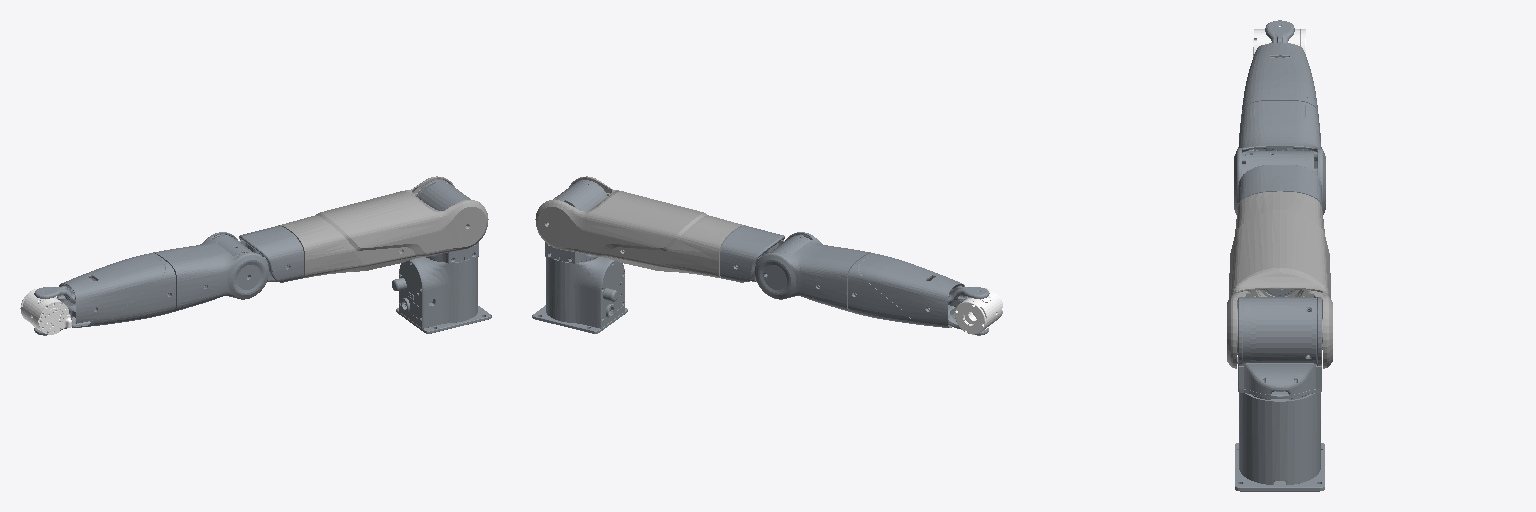
URDF robot description (nero_description):
<?xml version="1.0" encoding="utf-8"?>
<!-- This URDF was automatically created by SolidWorks to URDF Exporter! Originally created by [author] ([email redacted]) 
     Commit Version: 1.6.0-4-g7f85cfe  Build Version: 1.6.7995.38578
     For more information, please see http://wiki.ros.org/sw_urdf_exporter -->
<robot
  name="nero_description">
  <link
    name="base_link">
    <inertial>
      <origin
        xyz="-0.00963614954335565 0.00016786624100977 0.044860101664403"
        rpy="0 0 0" />
      <mass
        value="0.487153985946125" />
      <inertia
        ixx="0.000448116331022417"
        ixy="5.78111047127811E-07"
        ixz="1.54743135248644E-05"
        iyy="0.000492511294798627"
        iyz="-4.11935494337721E-07"
        izz="0.000552986424582884" />
    </inertial>
    <visual>
      <origin
        xyz="0 0 0"
        rpy="0 0 0" />
      <geometry>
        <mesh
          filename="package://nero_description/meshes/base_link.STL" />
      </geometry>
      <material
        name="">
        <color
          rgba="0.592156862745098 0.619607843137255 0.650980392156863 1" />
      </material>
    </visual>
    <collision>
      <origin
        xyz="0 0 0"
        rpy="0 0 0" />
      <geometry>
        <mesh
          filename="package://nero_description/meshes/base_link.STL" />
      </geometry>
    </collision>
  </link>
  <link
    name="Link1">
    <inertial>
      <origin
        xyz="0.000715896252246681 0.000898556742748309 -0.0252517626006055"
        rpy="0 0 0" />
      <mass
        value="0.24545463218233" />
      <inertia
        ixx="0.00011319361616663"
        ixy="6.05951634198749E-07"
        ixz="7.40786266784068E-07"
        iyy="0.000125764803621739"
        iyz="3.74212053006065E-07"
        izz="0.000127643109947032" />
    </inertial>
    <visual>
      <origin
        xyz="0 0 0"
        rpy="0 0 0" />
      <geometry>
        <mesh
          filename="package://nero_description/meshes/Link1.STL" />
      </geometry>
      <material
        name="">
        <color
          rgba="0.592156862745098 0.619607843137255 0.650980392156863 1" />
      </material>
    </visual>
    <collision>
      <origin
        xyz="0 0 0"
        rpy="0 0 0" />
      <geometry>
        <mesh
          filename="package://nero_description/meshes/Link1.STL" />
      </geometry>
    </collision>
  </link>
  <joint
    name="joint1"
    type="revolute">
    <origin
      xyz="0 0 0.138"
      rpy="0 0 0" />
    <parent
      link="base_link" />
    <child
      link="Link1" />
    <axis
      xyz="0 0 1" />
    <limit
      lower="-2.7402"
      upper="2.7402"
      effort="100"
      velocity="10" />
  </joint>
  <link
    name="Link2">
    <inertial>
      <origin
        xyz="0.00150006271332911 -0.0864806891090517 0.00233256198231633"
        rpy="0 0 0" />
      <mass
        value="0.340250343180855" />
      <inertia
        ixx="0.00114692547593191"
        ixy="7.82238855198332E-06"
        ixz="3.0883652252364E-07"
        iyy="0.000213355266074738"
        iyz="-8.94550878113609E-07"
        izz="0.00125153113572145" />
    </inertial>
    <visual>
      <origin
        xyz="0 0 0"
        rpy="0 0 0" />
      <geometry>
        <mesh
          filename="package://nero_description/meshes/Link2.STL" />
      </geometry>
      <material
        name="">
        <color
          rgba="0.698039215686274 0.698039215686274 0.698039215686274 0.875" />
      </material>
    </visual>
    <collision>
      <origin
        xyz="0 0 0"
        rpy="0 0 0" />
      <geometry>
        <mesh
          filename="package://nero_description/meshes/Link2.STL" />
      </geometry>
    </collision>
  </link>
  <joint
    name="joint2"
    type="revolute">
    <origin
      xyz="0 0 0"
      rpy="1.5708 1.5708 0" />
    <parent
      link="Link1" />
    <child
      link="Link2" />
    <axis
      xyz="0 0 -1" />
    <limit
      lower="-0.2618"
      upper="3.3161"
      effort="100"
      velocity="10" />
  </joint>
  <link
    name="Link3">
    <inertial>
      <origin
        xyz="0.000329369340537011 0.000367393742880216 -0.0912010032043437"
        rpy="0 0 0" />
      <mass
        value="0.359899395208716" />
      <inertia
        ixx="0.000326426459526899"
        ixy="-7.9589690370858E-08"
        ixz="-3.20254640955194E-06"
        iyy="0.000359922429421077"
        iyz="-1.4226909768486E-06"
        izz="9.50921751679351E-05" />
    </inertial>
    <visual>
      <origin
        xyz="0 0 0"
        rpy="0 0 0" />
      <geometry>
        <mesh
          filename="package://nero_description/meshes/Link3.STL" />
      </geometry>
      <material
        name="">
        <color
          rgba="0.592156862745098 0.619607843137255 0.650980392156863 1" />
      </material>
    </visual>
    <collision>
      <origin
        xyz="0 0 0"
        rpy="0 0 0" />
      <geometry>
        <mesh
          filename="package://nero_description/meshes/Link3.STL" />
      </geometry>
    </collision>
  </link>
  <joint
    name="joint3"
    type="revolute">
    <origin
      xyz="0 -0.31 0"
      rpy="-1.5708 0 3.1416" />
    <parent
      link="Link2" />
    <child
      link="Link3" />
    <axis
      xyz="0 0 1" />
    <limit
      lower="-2.7925"
      upper="2.7925"
      effort="100"
      velocity="10" />
  </joint>
  <link
    name="Link4">
    <inertial>
      <origin
        xyz="-0.00090948139479044 -0.0503071433133058 0.00916295451944902"
        rpy="0 0 0" />
      <mass
        value="0.164135315169796" />
      <inertia
        ixx="0.000174183260832447"
        ixy="3.85077059441721E-06"
        ixz="-1.54723760900631E-07"
        iyy="6.55376510796343E-05"
        iyz="-2.08112584342887E-06"
        izz="0.000198941180189116" />
    </inertial>
    <visual>
      <origin
        xyz="0 0 0"
        rpy="0 0 0" />
      <geometry>
        <mesh
          filename="package://nero_description/meshes/Link4.STL" />
      </geometry>
      <material
        name="">
        <color
          rgba="0.592156862745098 0.619607843137255 0.650980392156863 1" />
      </material>
    </visual>
    <collision>
      <origin
        xyz="0 0 0"
        rpy="0 0 0" />
      <geometry>
        <mesh
          filename="package://nero_description/meshes/Link4.STL" />
      </geometry>
    </collision>
  </link>
  <joint
    name="joint4"
    type="revolute">
    <origin
      xyz="0 0 0"
      rpy="-1.5708 0 3.1416" />
    <parent
      link="Link3" />
    <child
      link="Link4" />
    <axis
      xyz="0 0 -1" />
    <limit
      lower="-1.0472"
      upper="2.1817"
      effort="100"
      velocity="10" />
  </joint>
  <link
    name="Link5">
    <inertial>
      <origin
        xyz="0.000247508903624559 -0.000503952827460075 -0.103181107893683"
        rpy="0 0 0" />
      <mass
        value="0.26290365411796" />
      <inertia
        ixx="0.000286471020887866"
        ixy="2.42735542088078E-07"
        ixz="-7.39872687538375E-07"
        iyy="0.000256499213556085"
        iyz="-2.34620347411223E-06"
        izz="8.48655617655643E-05" />
    </inertial>
    <visual>
      <origin
        xyz="0 0 0"
        rpy="0 0 0" />
      <geometry>
        <mesh
          filename="package://nero_description/meshes/Link5.STL" />
      </geometry>
      <material
        name="">
        <color
          rgba="0.592156862745098 0.619607843137255 0.650980392156863 1" />
      </material>
    </visual>
    <collision>
      <origin
        xyz="0 0 0"
        rpy="0 0 0" />
      <geometry>
        <mesh
          filename="package://nero_description/meshes/Link5.STL" />
      </geometry>
    </collision>
  </link>
  <joint
    name="joint5"
    type="revolute">
    <origin
      xyz="0 -0.27001 0"
      rpy="1.5708 -1.5708 0" />
    <parent
      link="Link4" />
    <child
      link="Link5" />
    <axis
      xyz="0 0 1" />
    <limit
      lower="-2.7925"
      upper="2.7925"
      effort="100"
      velocity="10" />
  </joint>
  <link
    name="Link6">
    <inertial>
      <origin
        xyz="7.76985979518141E-05 0.00155428293865652 -0.000196698394733047"
        rpy="0 0 0" />
      <mass
        value="0.0346374690978017" />
      <inertia
        ixx="5.41014573027983E-06"
        ixy="-2.53158407563903E-08"
        ixz="-5.77076135193377E-08"
        iyy="9.75643100389665E-06"
        iyz="3.4010295821093E-08"
        izz="5.56054302578999E-06" />
    </inertial>
    <visual>
      <origin
        xyz="0 0 0"
        rpy="0 0 0" />
      <geometry>
        <mesh
          filename="package://nero_description/meshes/Link6.STL" />
      </geometry>
      <material
        name="">
        <color
          rgba="1 1 1 1" />
      </material>
    </visual>
    <collision>
      <origin
        xyz="0 0 0"
        rpy="0 0 0" />
      <geometry>
        <mesh
          filename="package://nero_description/meshes/Link6.STL" />
      </geometry>
    </collision>
  </link>
  <joint
    name="joint6"
    type="revolute">
    <origin
      xyz="0 0 0"
      rpy="1.5708 -1.5708 0" />
    <parent
      link="Link5" />
    <child
      link="Link6" />
    <axis
      xyz="0 0 -1" />
    <limit
      lower="-0.7505"
      upper="1.0123"
      effort="100"
      velocity="10" />
  </joint>
  <link
    name="Link7">
    <inertial>
      <origin
        xyz="-0.000139607625717852 -0.000102022251390804 -0.00275209775972314"
        rpy="0 0 0" />
      <mass
        value="0.00232665325657446" />
      <inertia
        ixx="9.44277513776404E-08"
        ixy="-3.07406565085618E-24"
        ixz="-5.21148689611849E-10"
        iyy="9.44244711276097E-08"
        iyz="2.55388843335658E-22"
        izz="1.77221804908522E-07" />
    </inertial>
    <visual>
      <origin
        xyz="0 0 0"
        rpy="0 0 0" />
      <geometry>
        <mesh
          filename="package://nero_description/meshes/Link7.STL" />
      </geometry>
      <material
        name="">
        <color
          rgba="1 1 1 1" />
      </material>
    </visual>
    <collision>
      <origin
        xyz="0 0 0"
        rpy="0 0 0" />
      <geometry>
        <mesh
          filename="package://nero_description/meshes/Link7.STL" />
      </geometry>
    </collision>
  </link>
  <joint
    name="joint7"
    type="revolute">
    <origin
      xyz="0 -0.0235 0"
      rpy="1.5708 0 0" />
    <parent
      link="Link6" />
    <child
      link="Link7" />
    <axis
      xyz="0 0 1" />
    <limit
      lower="-1.57"
      upper="1.57"
      effort="100"
      velocity="10" />
  </joint>
</robot>

--- Render facts (derived) ---
3 views of the same robot in one strip: view 1: azimuth 30°, elevation 25°; view 2: azimuth 150°, elevation 25°; view 3: azimuth 270°, elevation 25° (orthographic).
Robot: nero_description — 8 links, 7 joints (7 revolute); root link base_link; default pose: every joint at zero.
Links seen in each view (by area): view 1: Link2, Link5, base_link, Link4, Link3, Link1, Link6; view 2: Link2, Link5, base_link, Link4, Link3, Link1, Link6; view 3: Link2, Link1, base_link, Link4, Link5, Link3.
Boxes of the visible links, x1,y1,x2,y2 form: Link2: (278,176,488,278); Link5: (34,253,175,335); base_link: (392,257,491,333); Link4: (153,232,268,311); Link3: (212,226,303,282); Link1: (416,180,478,263); Link6: (20,289,71,334); Link2: (535,176,745,278); Link5: (848,253,989,335); base_link: (532,257,627,333); Link4: (755,232,870,311); Link3: (720,226,811,282); Link1: (545,180,606,263); Link6: (955,288,1002,334); Link2: (1227,191,1332,368); Link1: (1237,297,1321,398); base_link: (1235,393,1324,491); Link4: (1234,101,1325,214); Link5: (1241,20,1317,150); Link3: (1237,151,1322,296).
Size in the robot's own frame: 0.6421 by 0.0931 by 0.1746 metres.
8 mesh visuals loaded from 8 distinct referenced files (8 binary STL).
